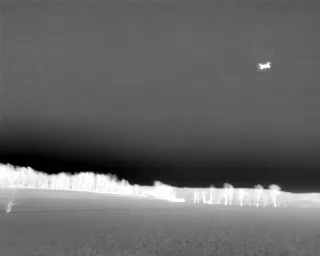DRONE: (255, 57, 275, 75)
